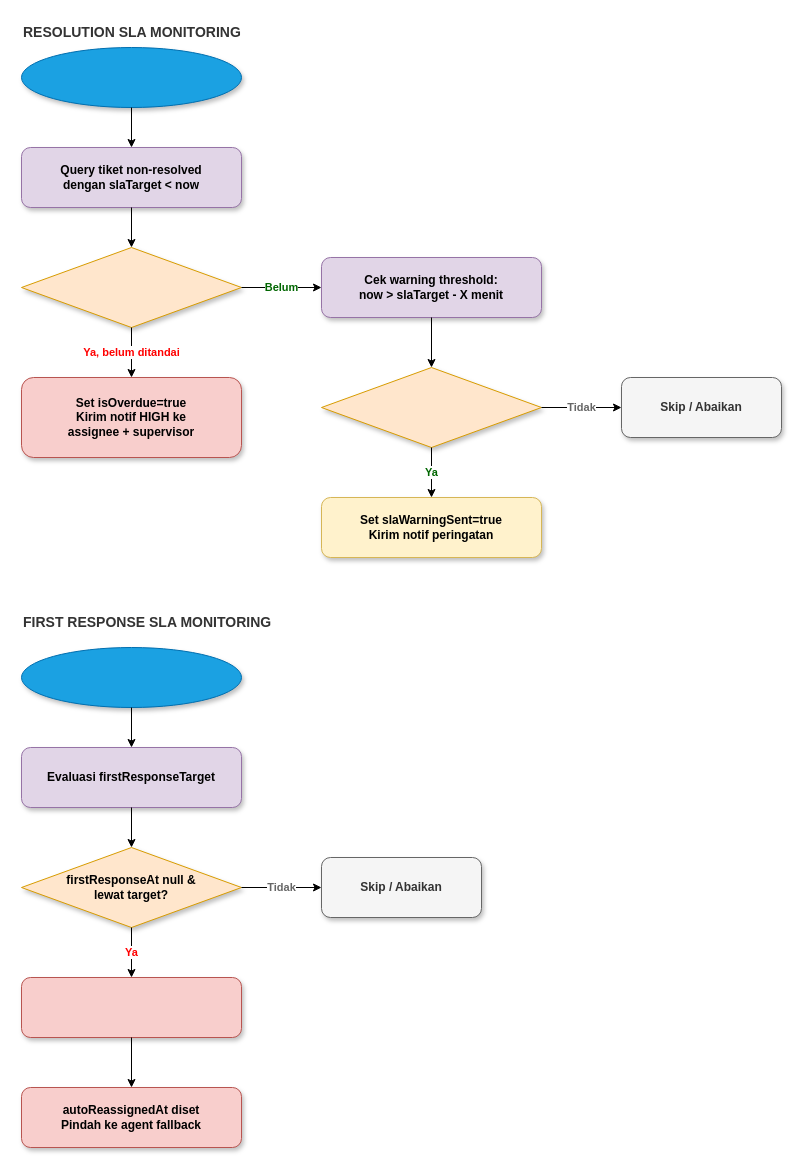
This 805x1172 diagram has some shape labels left out. Each missing label, with the centre of its shape:
"Cron sla-checker.service.ts (Setiap 10 Menit)" goes at point 132,78.
"Cron sla-monitor.service.ts (Setiap 15 Menit)" goes at point 132,678.
"Set isFirstResponseBreached=true Evaluasi auto-reassign" goes at point 132,1008.
"slaWarningSent = false?" goes at point 432,408.
"Sudah breach?" goes at point 132,288.
